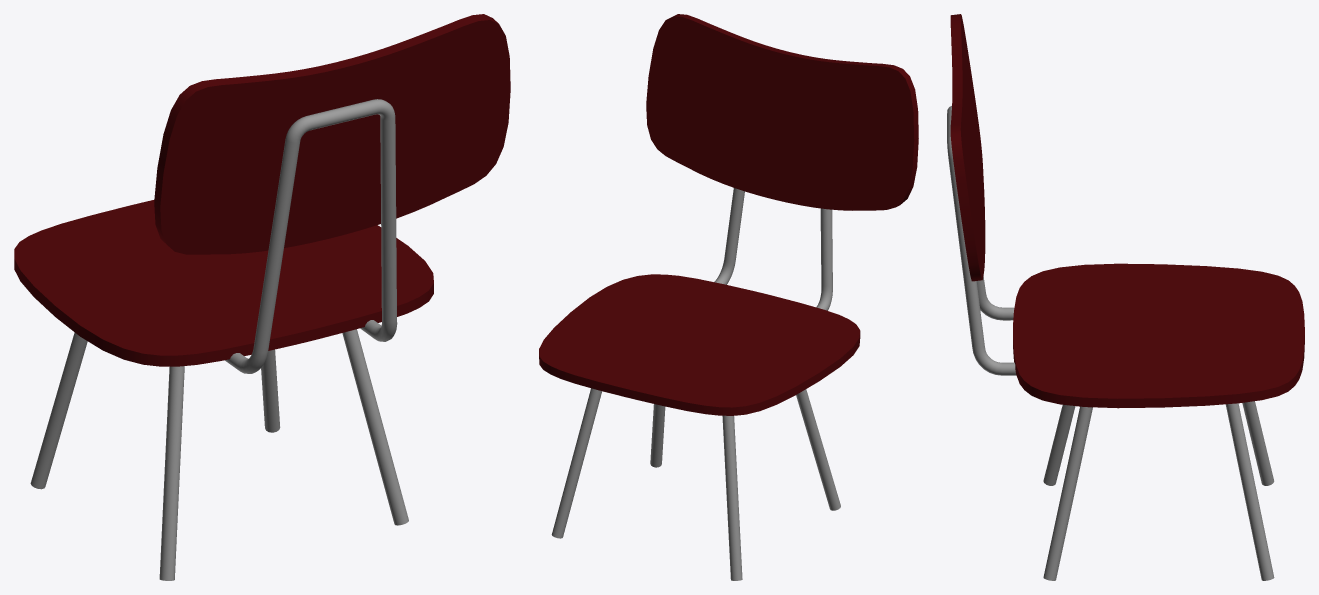
The model's file is Chair.FBX.
3 renders of one model, left to right at view 1: azimuth 30°, elevation 25°; view 2: azimuth 150°, elevation 25°; view 3: azimuth 270°, elevation 25°, orthographic. The views are drawn at different scales.
Parts seen in each view (by area): view 1: Box003; view 2: Box003; view 3: Box003.
Part boxes in pixels (x1,y1,x2,y2): Box003: (14, 14, 510, 580); Box003: (539, 14, 918, 580); Box003: (947, 14, 1304, 580).
Bounding box in the file's own units: 485 × 722 × 510.
